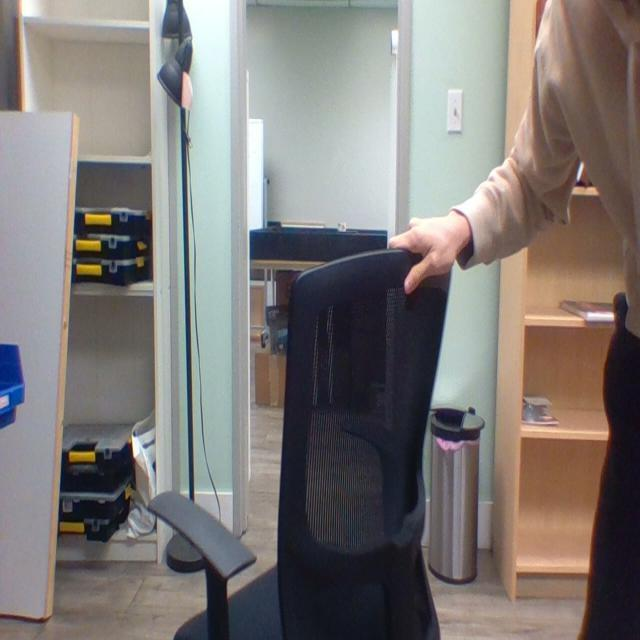chair: (137, 245, 447, 639)
